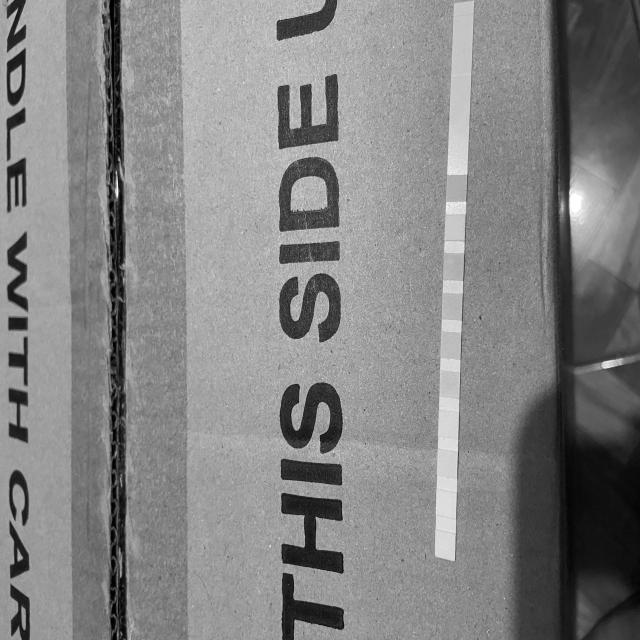Bilirubin: (446, 215, 464, 240)
Blood: (441, 333, 460, 357)
Glucose: (448, 175, 467, 201)
Ketone: (444, 253, 463, 280)
Leukocytes: (435, 532, 455, 556)
Nitrite: (438, 491, 457, 516)
Protein: (439, 412, 459, 436)
SpGravity: (443, 292, 462, 318)
Urobilinogen: (438, 451, 458, 475)
background: (0, 0, 640, 640)
pH: (441, 372, 459, 396)
strip: (435, 1, 474, 563)
